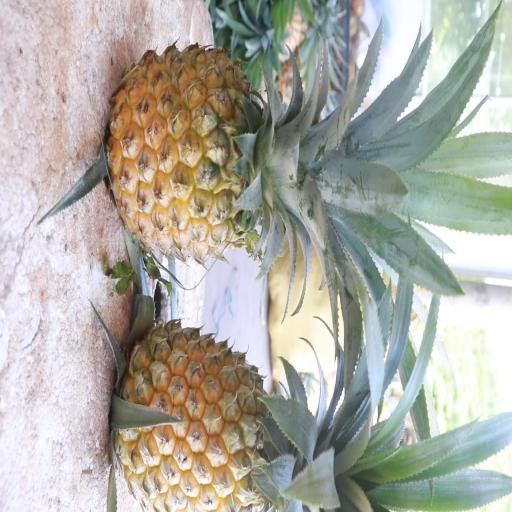Pineapple - v8 v1: (102, 39, 337, 273), (107, 315, 346, 512)
